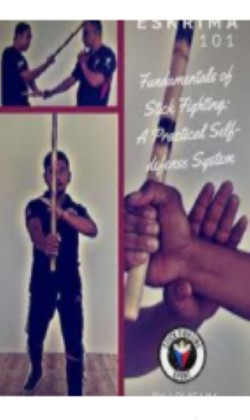baston_e: (137, 30, 202, 216), (46, 116, 59, 233), (51, 20, 80, 65)
baston_v: (119, 273, 150, 333), (172, 11, 200, 44), (41, 259, 70, 276), (49, 103, 60, 123)
